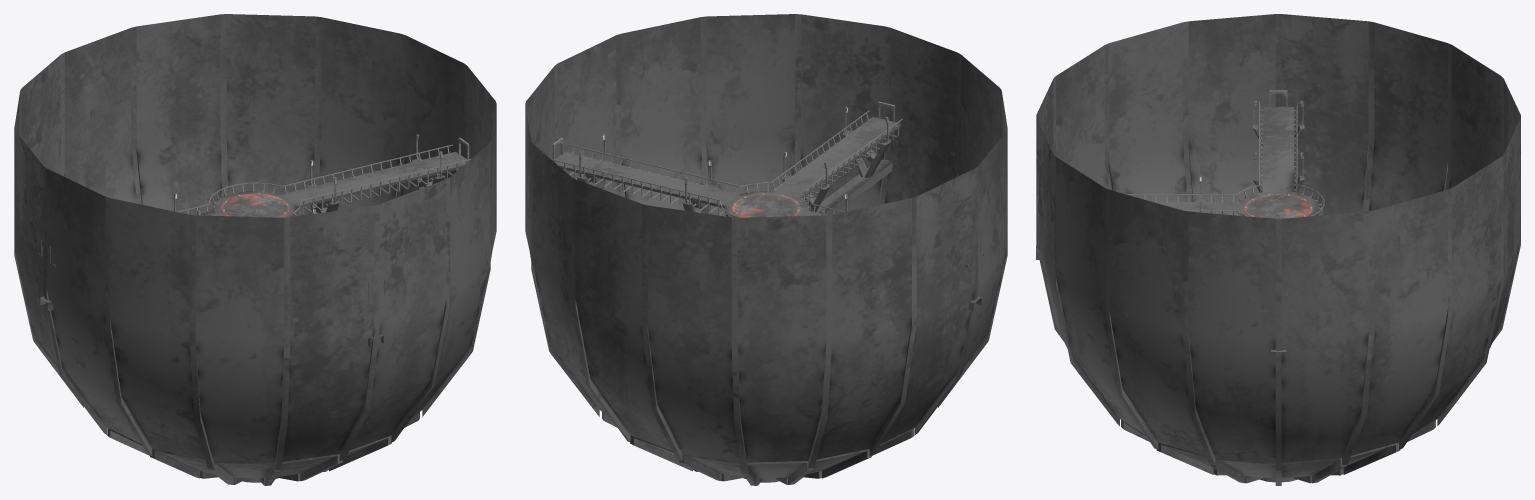
Rendered from Lok3.fbx.
3 views of the same model, side by side, from view 1: azimuth 30°, elevation 25°; view 2: azimuth 150°, elevation 25°; view 3: azimuth 270°, elevation 25° (orthographic).
Parts seen in each view (by area): view 1: conus, floor_low, fence_low, steklo_low, stage_low; view 2: conus, floor_low, fence_low, stage_low, steklo_low, floor2_low; view 3: conus, floor_low, steklo_low, fence_low.
Part boxes in pixels (left/top/right/bottom): conus: left=14, top=14, right=496, bottom=485; floor_low: left=38, top=152, right=468, bottom=301; fence_low: left=177, top=144, right=471, bottom=216; steklo_low: left=221, top=193, right=289, bottom=217; stage_low: left=306, top=158, right=445, bottom=213; conus: left=525, top=14, right=1007, bottom=485; floor_low: left=553, top=117, right=983, bottom=267; fence_low: left=550, top=110, right=902, bottom=217; stage_low: left=576, top=130, right=890, bottom=213; steklo_low: left=732, top=193, right=800, bottom=217; floor2_low: left=816, top=159, right=981, bottom=310; conus: left=1036, top=14, right=1520, bottom=485; floor_low: left=1038, top=107, right=1320, bottom=310; steklo_low: left=1244, top=194, right=1312, bottom=218; fence_low: left=1125, top=101, right=1324, bottom=216.
Bounding box in the file's own units: 54.74 × 43.78 × 54.45.
